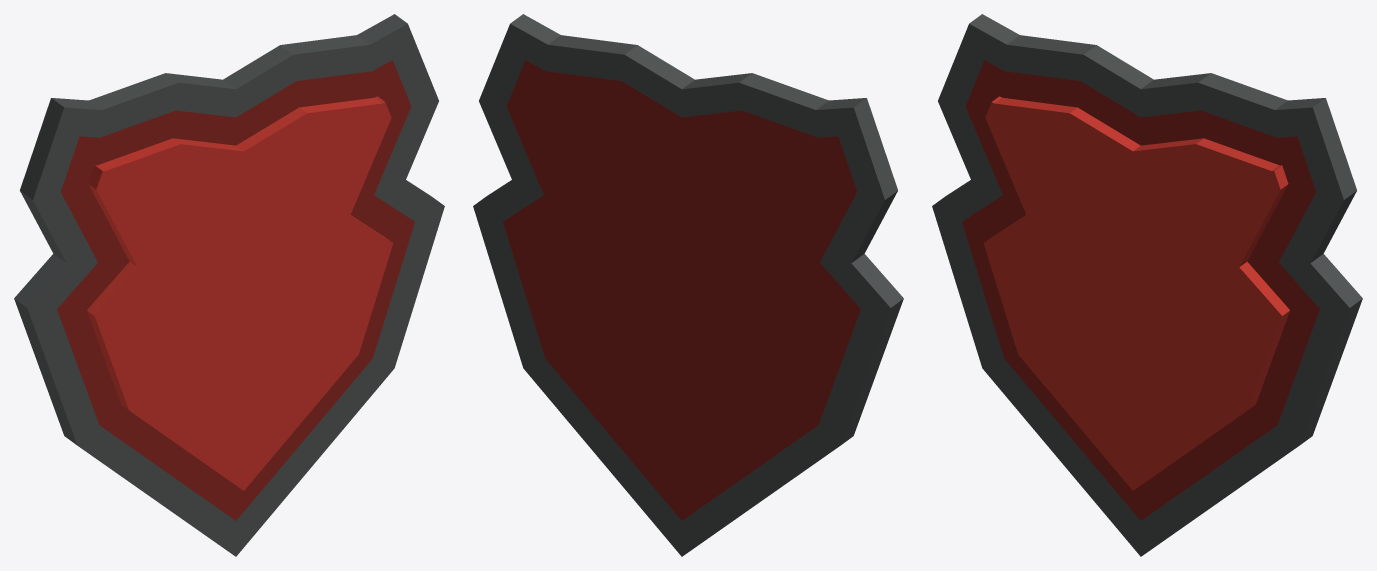
Rendered from Shield_5_Red.fbx.
3 renders of one model, left to right at view 1: azimuth 30°, elevation 25°; view 2: azimuth 150°, elevation 25°; view 3: azimuth 330°, elevation 25°, orthographic.
Parts seen in each view (by area): view 1: Shield_5_Red_Part_1, Shield_5_Red_Part_3, Shield_5_Red_Part_2; view 2: Shield_5_Red_Part_2, Shield_5_Red_Part_3; view 3: Shield_5_Red_Part_1, Shield_5_Red_Part_3, Shield_5_Red_Part_2.
Boxes of the visible parts, left/top/right/bottom form: Shield_5_Red_Part_1: left=87, top=96, right=393, bottom=490; Shield_5_Red_Part_3: left=14, top=14, right=444, bottom=556; Shield_5_Red_Part_2: left=57, top=60, right=414, bottom=520; Shield_5_Red_Part_2: left=503, top=60, right=860, bottom=520; Shield_5_Red_Part_3: left=473, top=14, right=903, bottom=556; Shield_5_Red_Part_1: left=983, top=96, right=1289, bottom=490; Shield_5_Red_Part_3: left=932, top=14, right=1362, bottom=556; Shield_5_Red_Part_2: left=962, top=60, right=1319, bottom=520.
Bounding box in the file's own units: 107 × 120 × 9.34.
